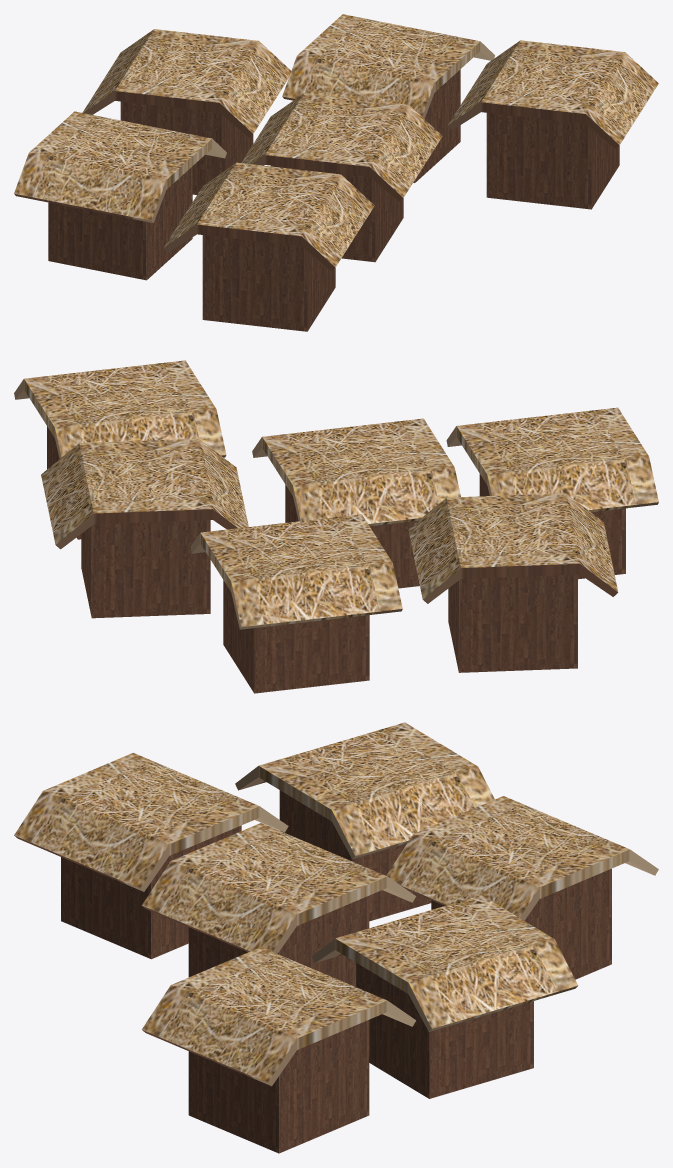
File: City.obj
3 views of the same model, one above another, from view 1: azimuth 30°, elevation 25°; view 2: azimuth 150°, elevation 25°; view 3: azimuth 270°, elevation 25° (orthographic). The views are drawn at different scales.
Parts seen in each view (by area): view 1: Cube.004; view 2: Cube.004; view 3: Cube.004.
Part boxes in pixels (x1,y1,x2,y2): Cube.004: (14,14,658,331); Cube.004: (14,360,658,693); Cube.004: (14,722,658,1153).
Bounding box in the file's own units: 6.35 × 1.06 × 5.05.
1 material, 1 textured.
